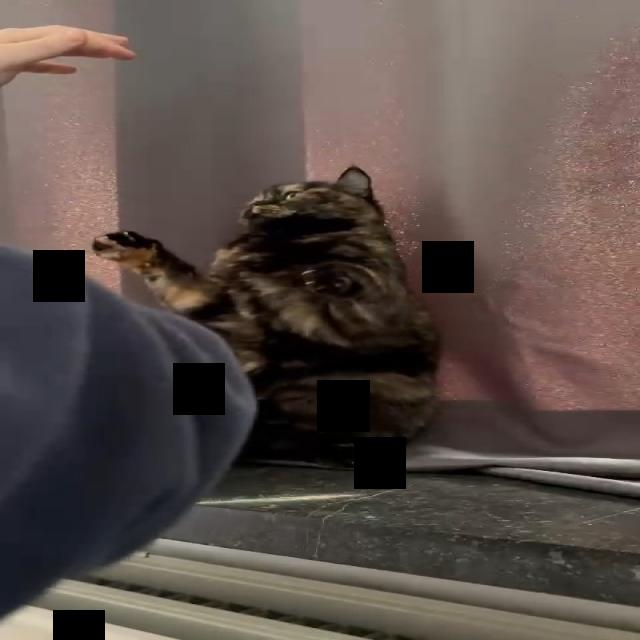authorized: (90, 164, 442, 468)
